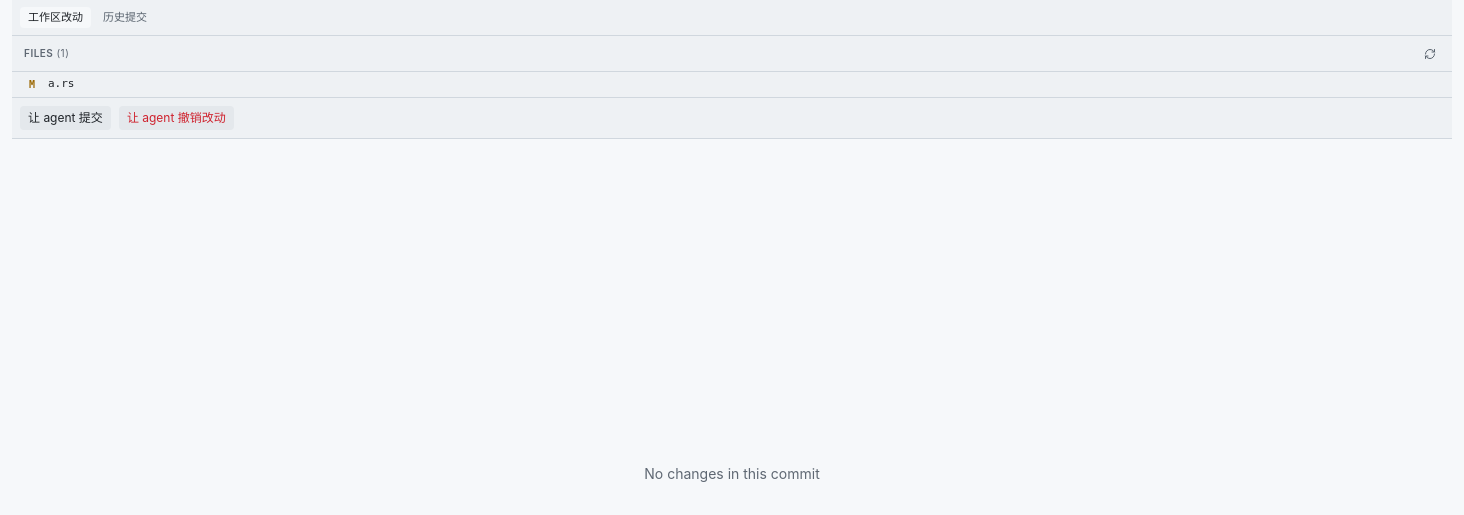
Test: GitViewer forward feedback › a later successful forward clears the earlier 未连接,未发送
This screenshot has width=1464, height=515.
Click the button "让 agent 提交" at (65, 118), box [20, 106, 111, 130]
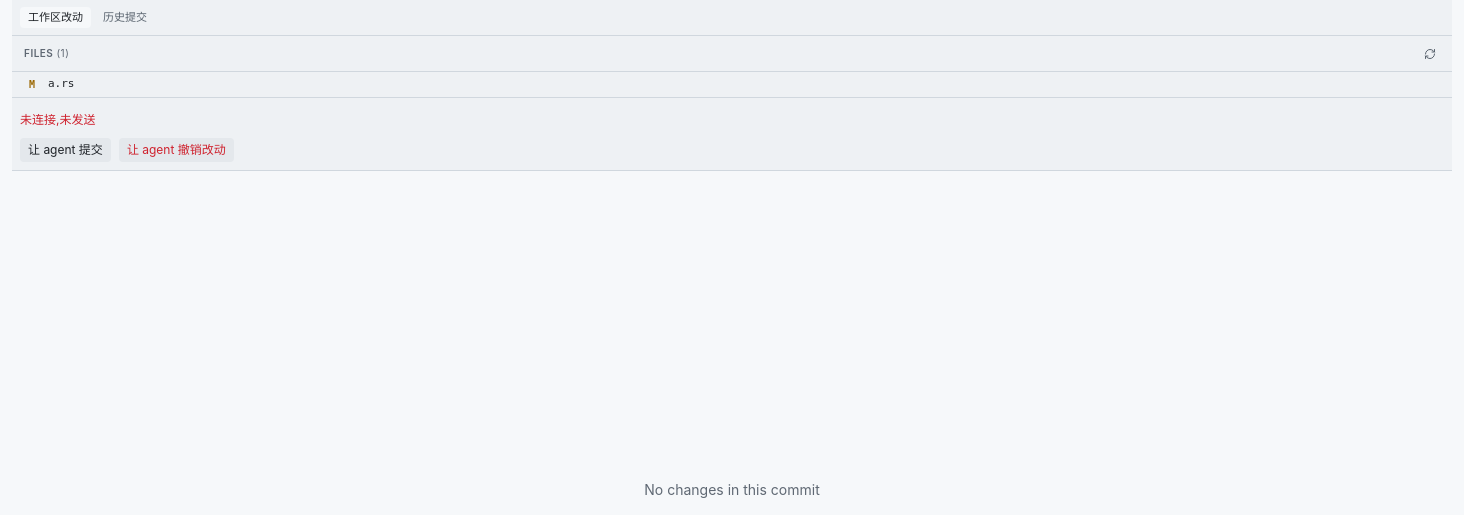
Expected: the text "未连接,未发送" is shown, [20, 112, 96, 126]
Click the button "让 agent 提交" at (65, 150), box [20, 138, 111, 162]
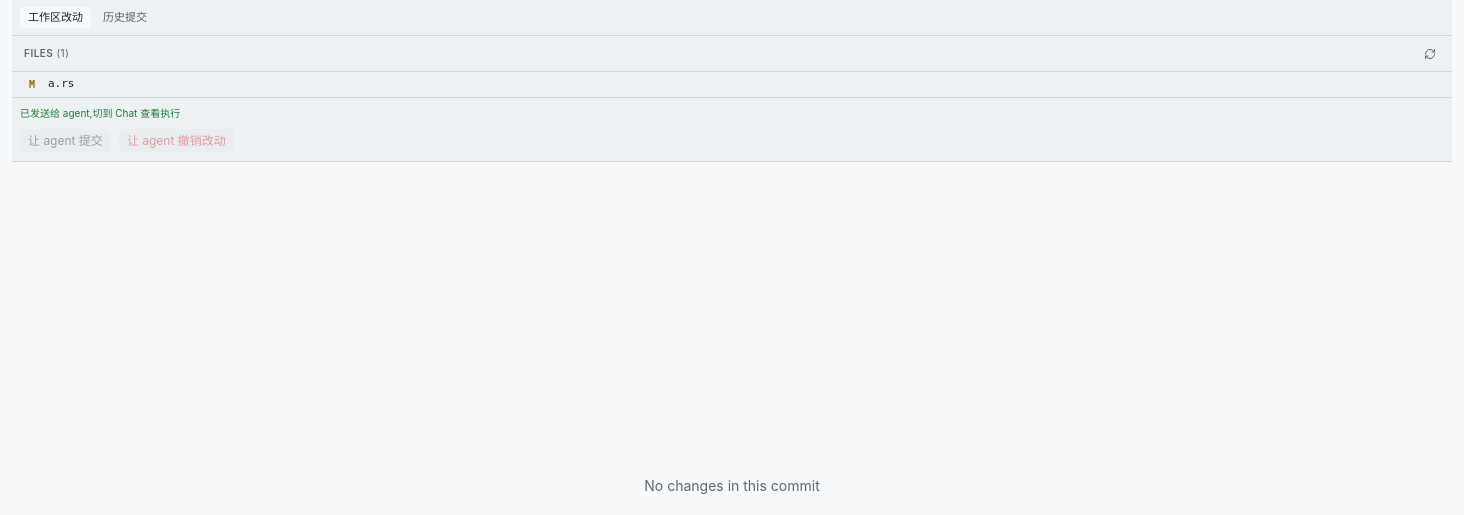
Expected: the text "已发送给 agent,切到 Chat 查看执行" is shown, [20, 106, 180, 118]
Expected: the text "未连接,未发送" is gone
